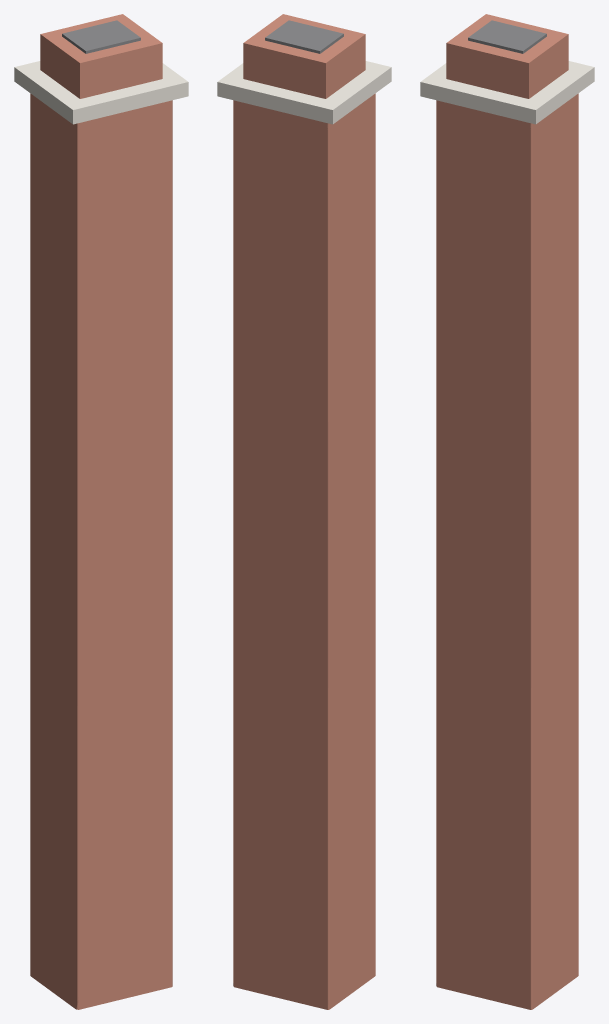
The model's file is chimney.glb.
The picture shows the model from 3 angles, left to right: view 1: azimuth 30°, elevation 25°; view 2: azimuth 150°, elevation 25°; view 3: azimuth 330°, elevation 25°; orthographic projection.
Parts seen in each view (by area): view 1: chimney_brick, chimney_trim, chimney_dark; view 2: chimney_brick, chimney_trim, chimney_dark; view 3: chimney_brick, chimney_trim, chimney_dark.
Part boxes in pixels (left/top/right/bottom): chimney_brick: left=30, top=14, right=172, bottom=1009; chimney_trim: left=14, top=61, right=188, bottom=124; chimney_dark: left=62, top=20, right=140, bottom=53; chimney_brick: left=233, top=14, right=375, bottom=1009; chimney_trim: left=217, top=61, right=391, bottom=124; chimney_dark: left=265, top=20, right=343, bottom=53; chimney_brick: left=436, top=14, right=578, bottom=1009; chimney_trim: left=420, top=61, right=594, bottom=124; chimney_dark: left=468, top=20, right=546, bottom=53.
Size of the model in its own units: 0.84 by 6.57 by 0.74.
